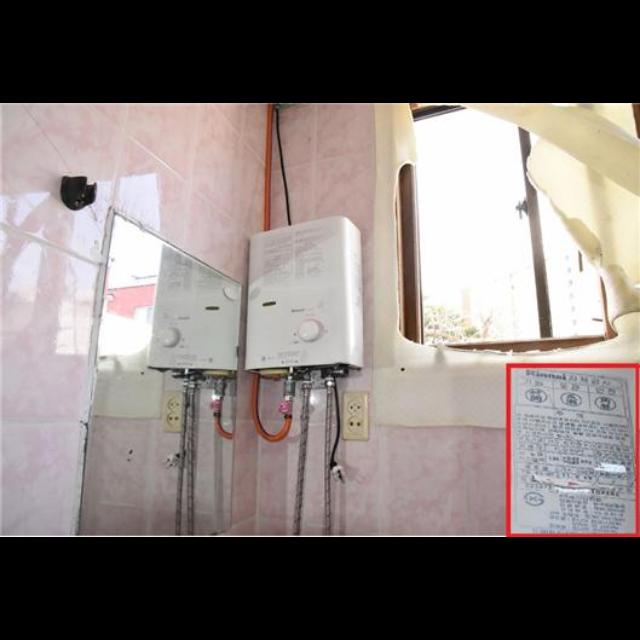Boiler: (235, 206, 378, 412)
